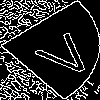V: (25, 25, 100, 82)
